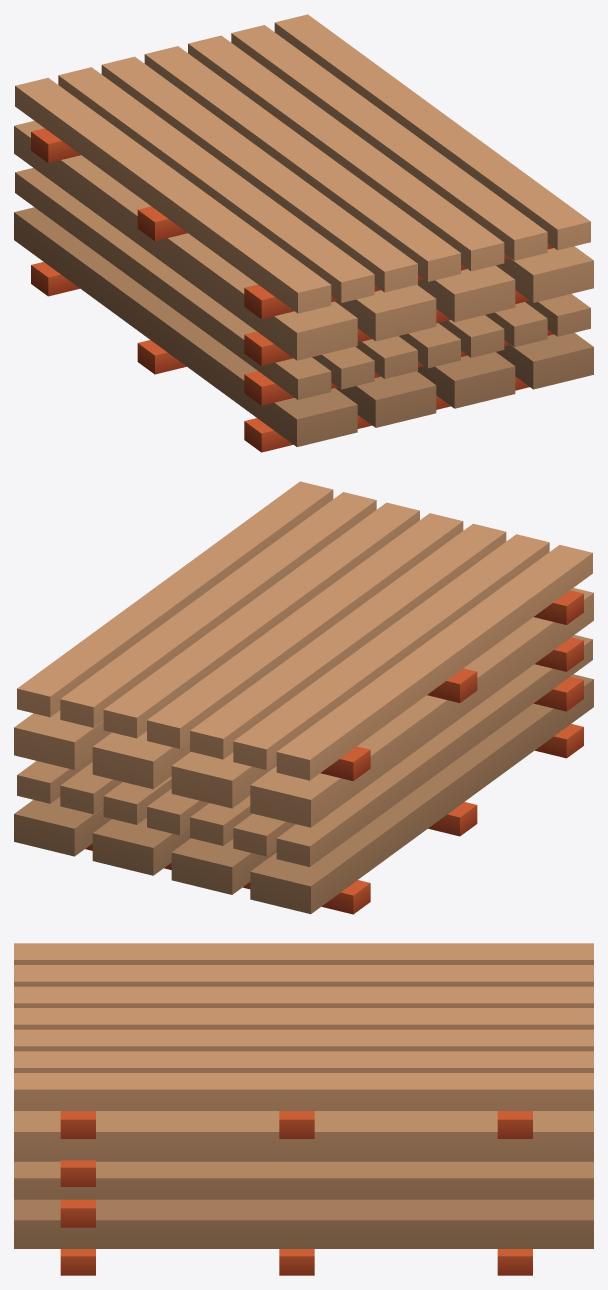
Rendered from treated wood big.fbx.
3 views of the same model, one above another, from view 1: azimuth 30°, elevation 25°; view 2: azimuth 150°, elevation 25°; view 3: azimuth 270°, elevation 25° (orthographic). The views are drawn at different scales.
Parts seen in each view (by area): view 1: treated_wood_big; view 2: treated_wood_big; view 3: treated_wood_big.
Part boxes in pixels (bbox=[...]): treated_wood_big: bbox=[14, 14, 593, 452]; treated_wood_big: bbox=[14, 481, 593, 914]; treated_wood_big: bbox=[14, 943, 593, 1275].
Bounding box in the file's own units: 280 × 143 × 423.
Materials: 1 (1 with a texture image).
